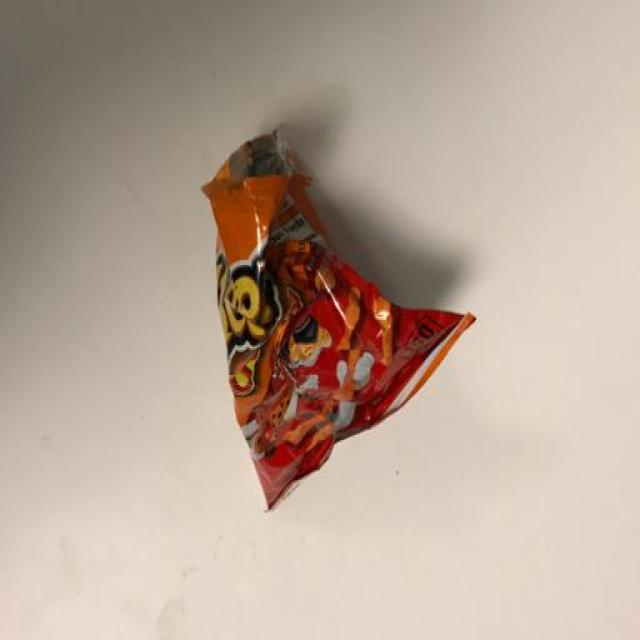Random Trash: (201, 128, 476, 512)
